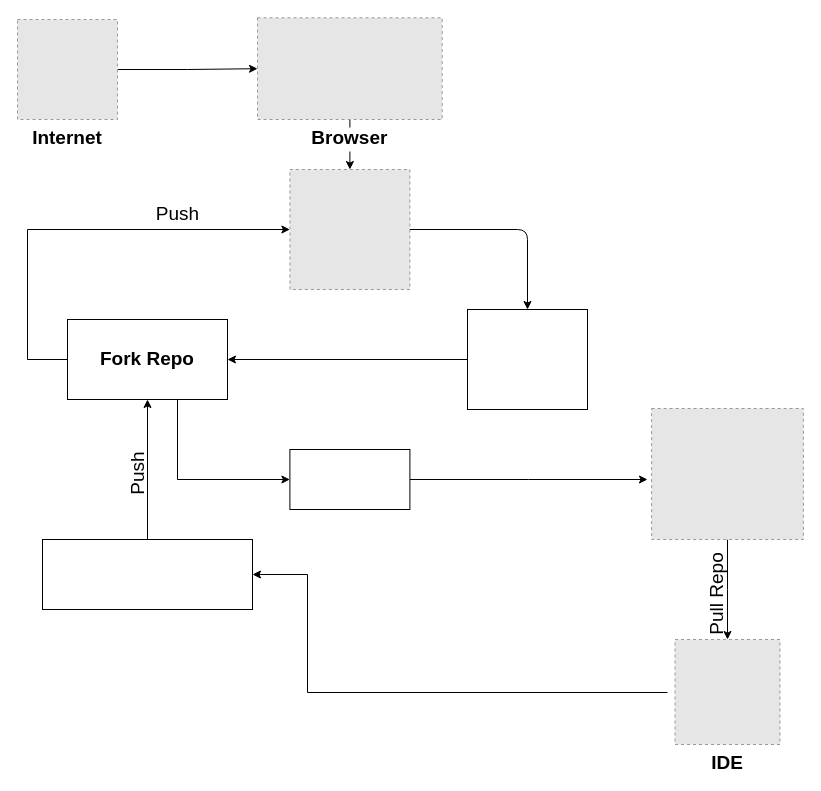
The diagram is 821 pixels wide and 791 high, and some of its shapes have lost their labels. Grey dashed boxes stand in for pictures. The centre of each missing label's shape, as x and y in pixels:
"Developer" goes at point 349,479.
"IDE-Edits (You may now work on your repo)" goes at point 147,574.
"Master Repository" goes at point 527,359.
